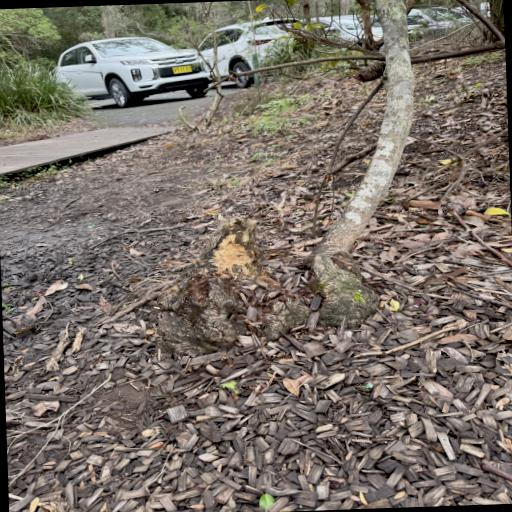tree root: (301, 0, 414, 327), (157, 215, 313, 354)
